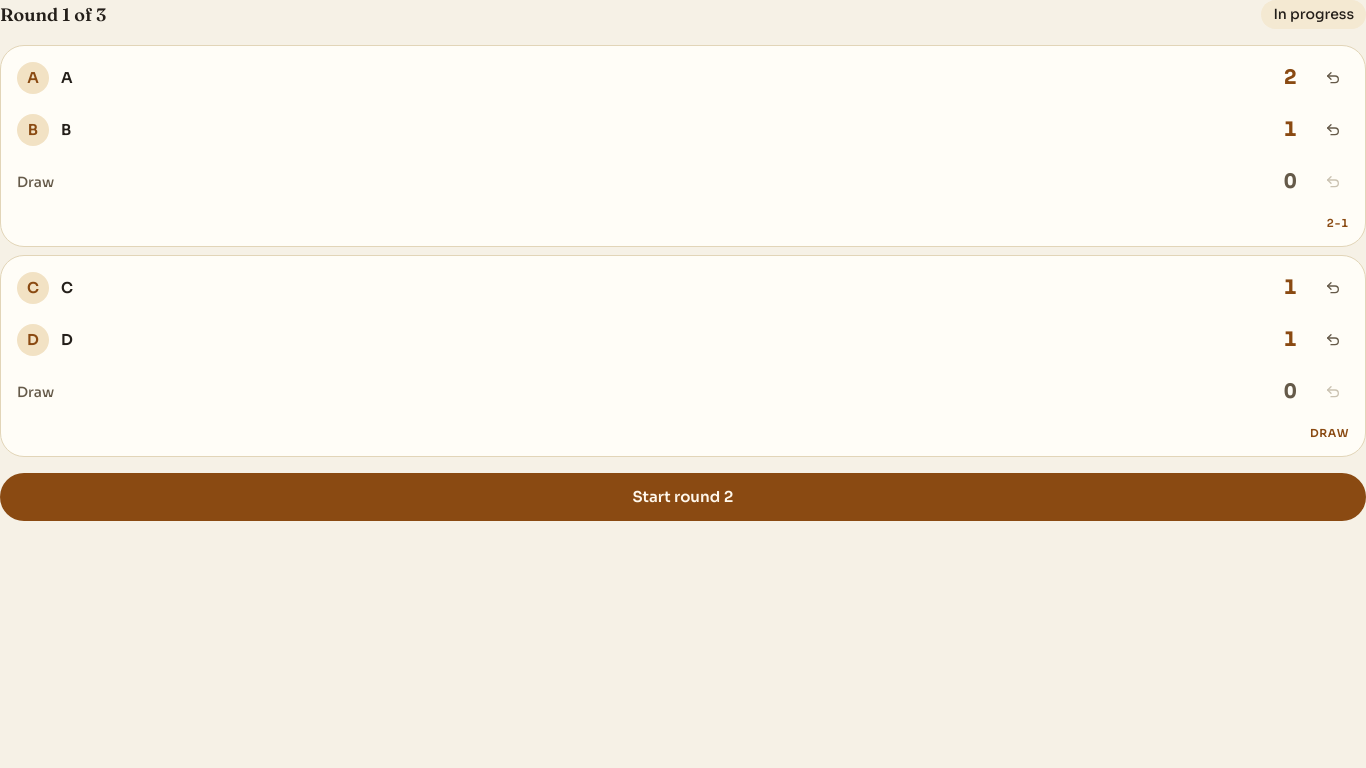
RoundScreen › unfinished-looking scores › keeps scoring when the TO backs out
The image size is (1366, 768).
Click the button "Start round 2". click: (683, 497)
box: 0,473 -> 1365,521
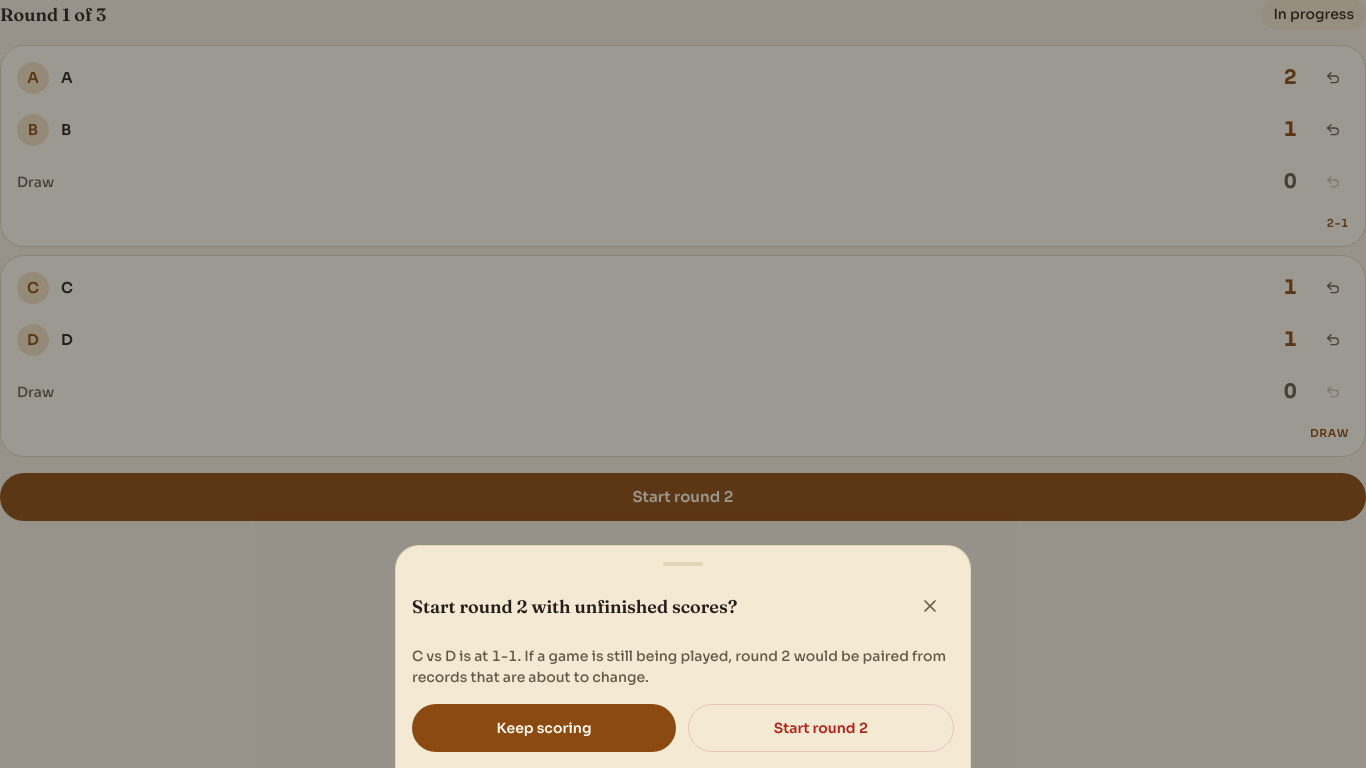
Click the button "Keep scoring". click: (544, 728)
box: 412,704 -> 676,752
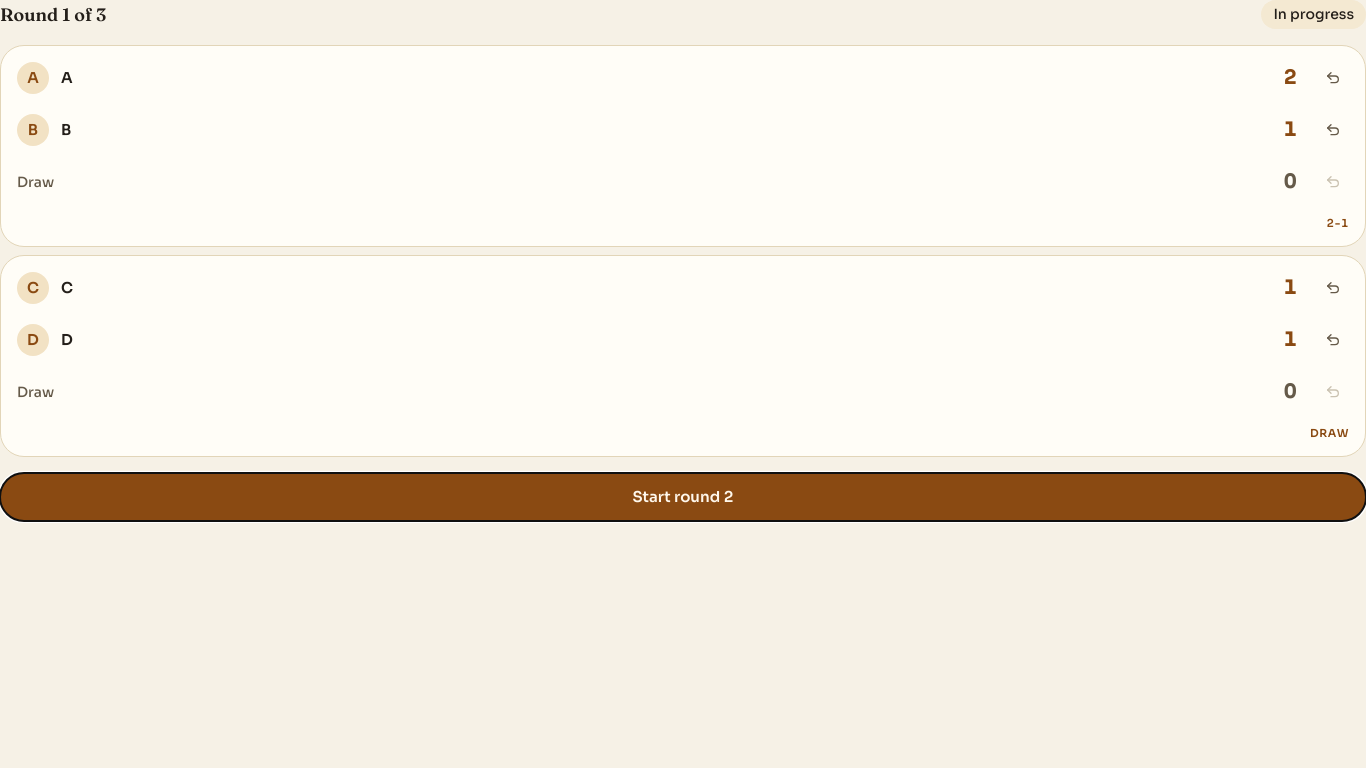
Result: the dialog is gone
